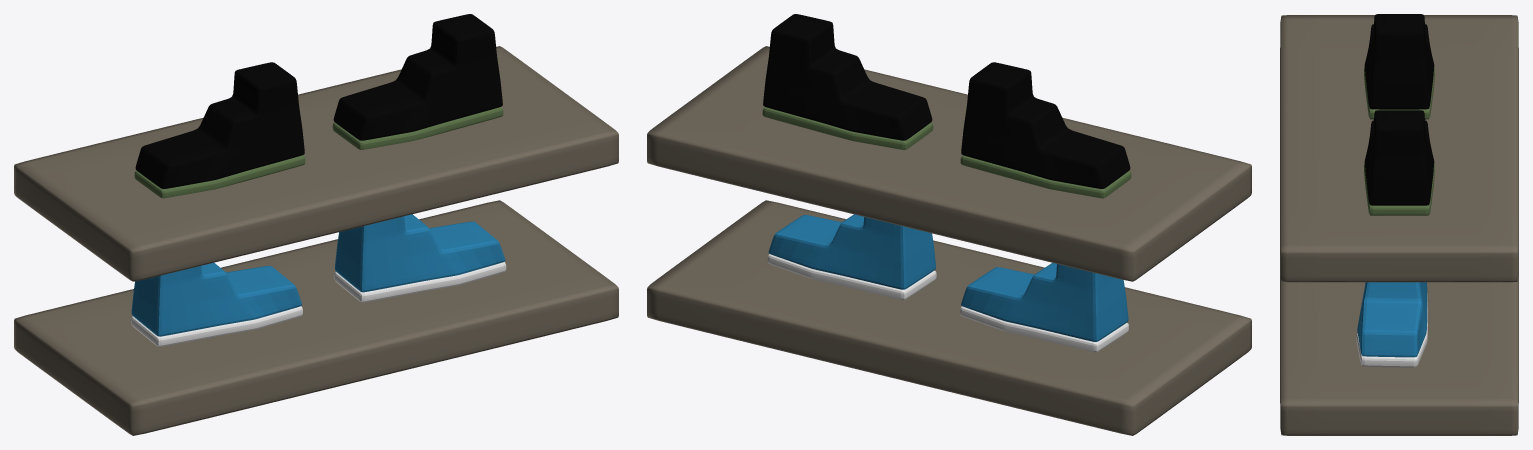
File: shoes.fbx
3 renders of one model, left to right at view 1: azimuth 30°, elevation 25°; view 2: azimuth 150°, elevation 25°; view 3: azimuth 270°, elevation 25°, orthographic.
Visible parts, largest first — view 1: shoes; view 2: shoes; view 3: shoes.
Boxes of the visible parts, x1=… form: shoes: x1=14, y1=14, x2=618, y2=435; shoes: x1=647, y1=14, x2=1251, y2=435; shoes: x1=1280, y1=14, x2=1518, y2=435.
Size of the model in its own units: 637 by 341 by 271.
